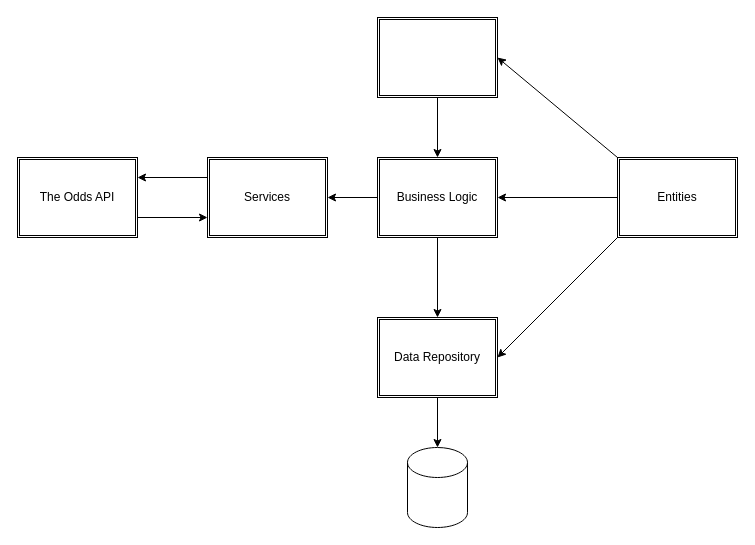
The diagram is 755 pixels wide and 545 high, and some of its shapes have lost their labels. The shapes that lost their labels are listed below. From the top down, each one's centre as x and y in pixels, then its label:
At point (437, 57): "Entry".
At point (437, 487): "NHL Database".
